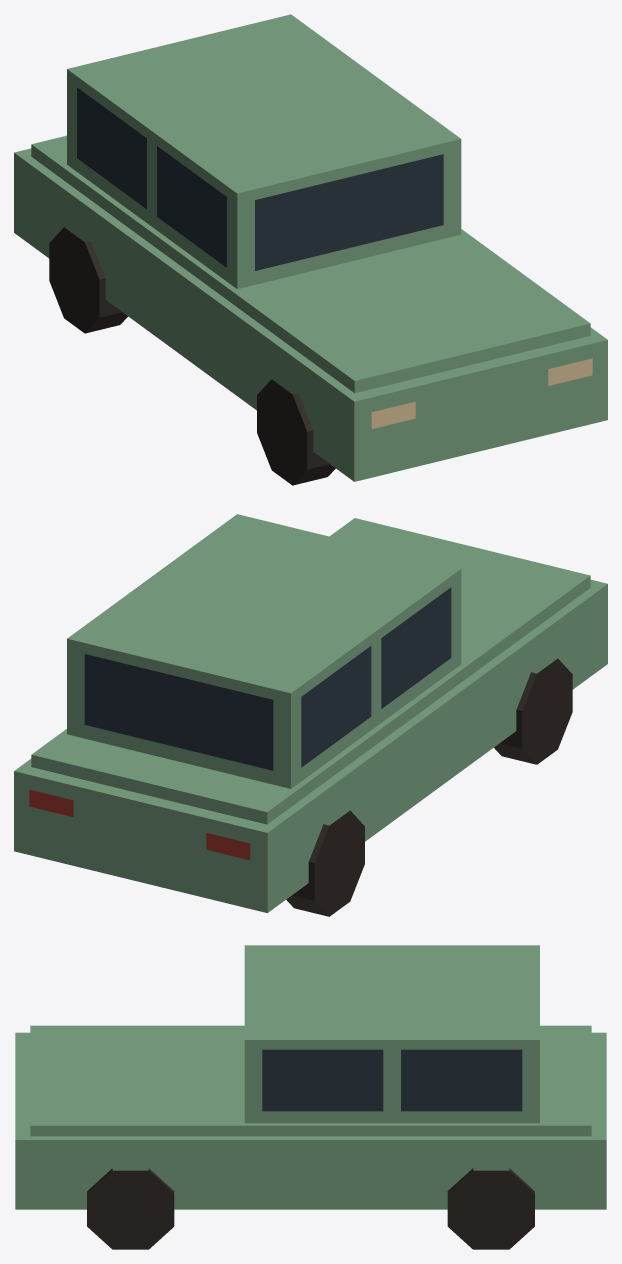
File: hatchback.glb
The picture shows the model from 3 angles, top to bottom: view 1: azimuth 30°, elevation 25°; view 2: azimuth 150°, elevation 25°; view 3: azimuth 270°, elevation 25°; orthographic projection. The views are drawn at different scales.
Size of the model in its own units: 1.8 by 1.5 by 4.02.
